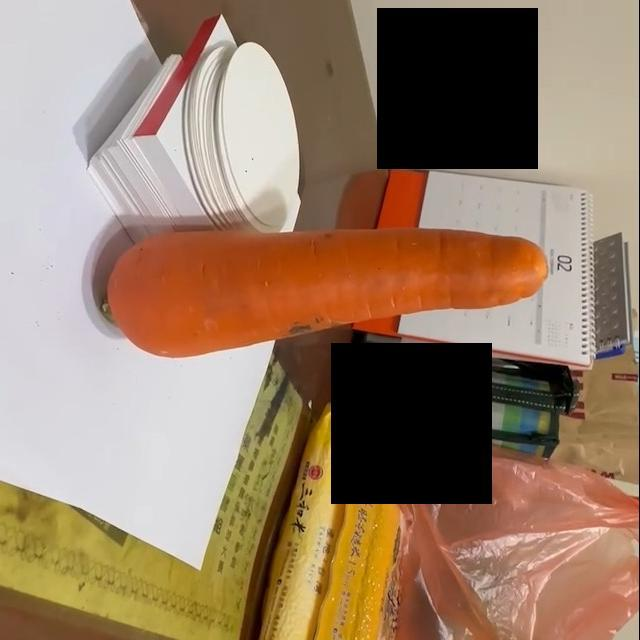carrot: (106, 227, 554, 364)
